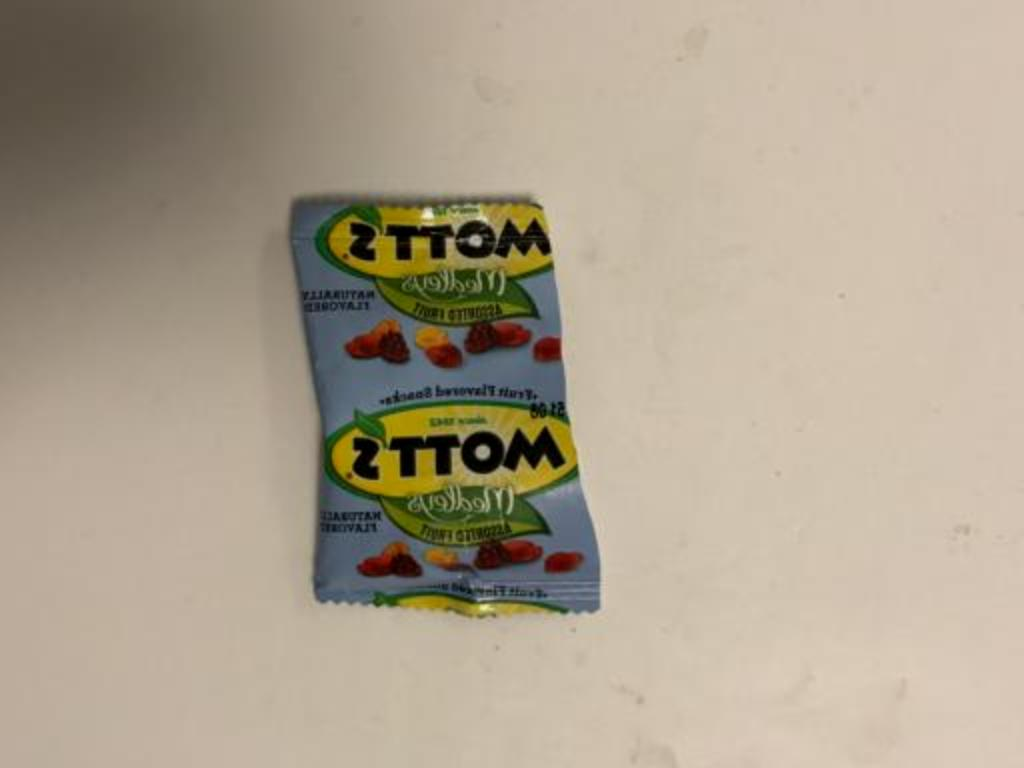garbage: (281, 138, 625, 674)
